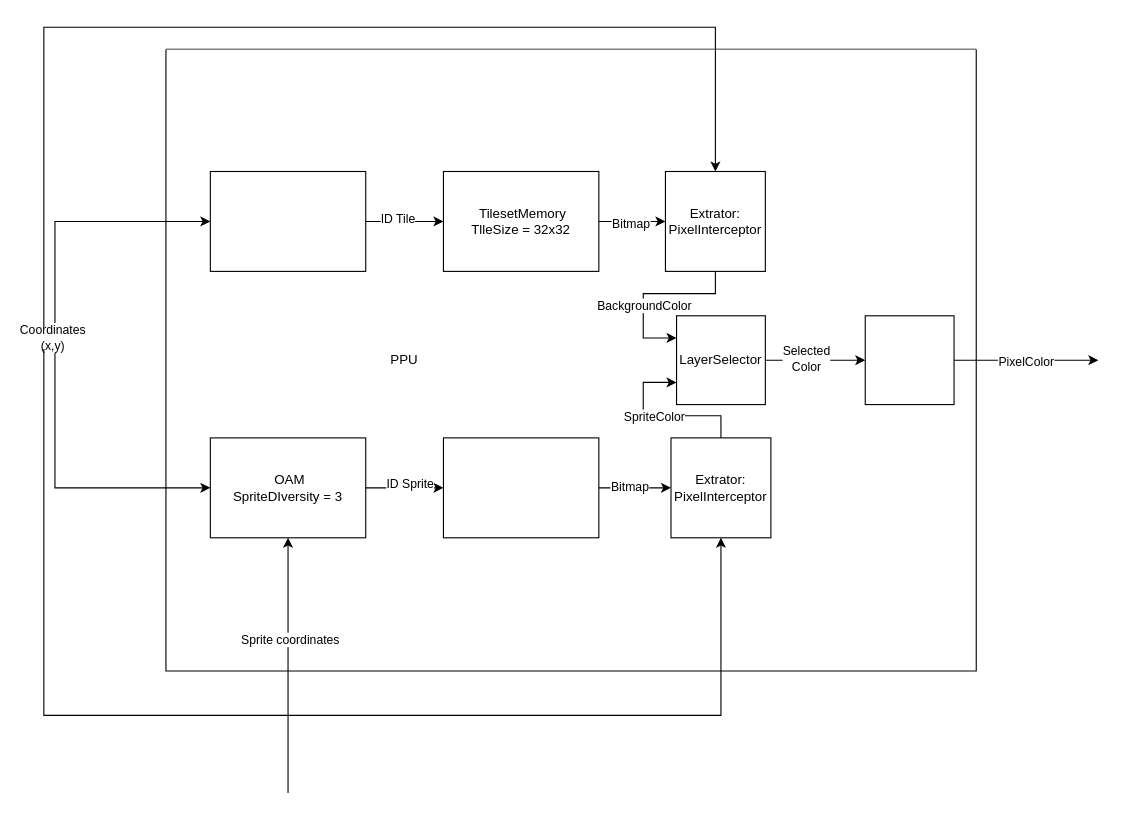
The diagram is 1127 pixels wide and 821 high, and some of its shapes have lost their labels. The shapes that lost their labels are listed below. From the top down, each one's centre as x and y in pixels, then its label:
At point (287, 220): "BackgroundMemory TileDiversity = 4".
At point (909, 360): "PaletteMemory Colors = 2".
At point (520, 487): "SpriteMemory SpriteSize = 32x32".
